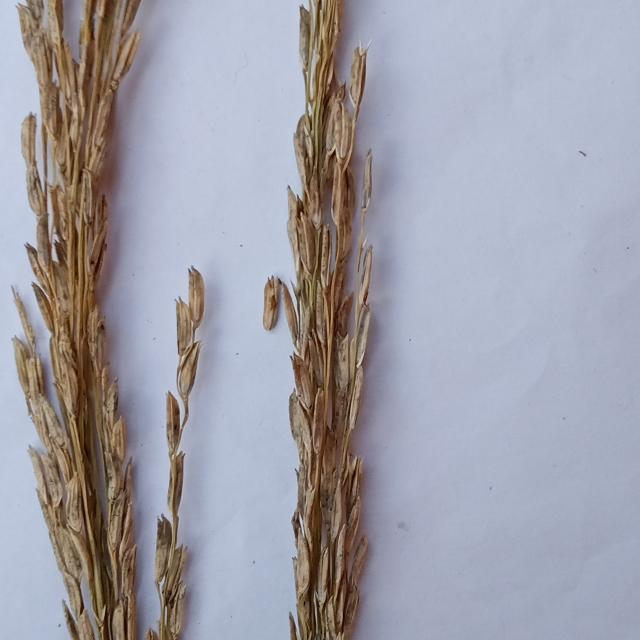Neck_Blast: (0, 4, 197, 640), (269, 8, 385, 640)
